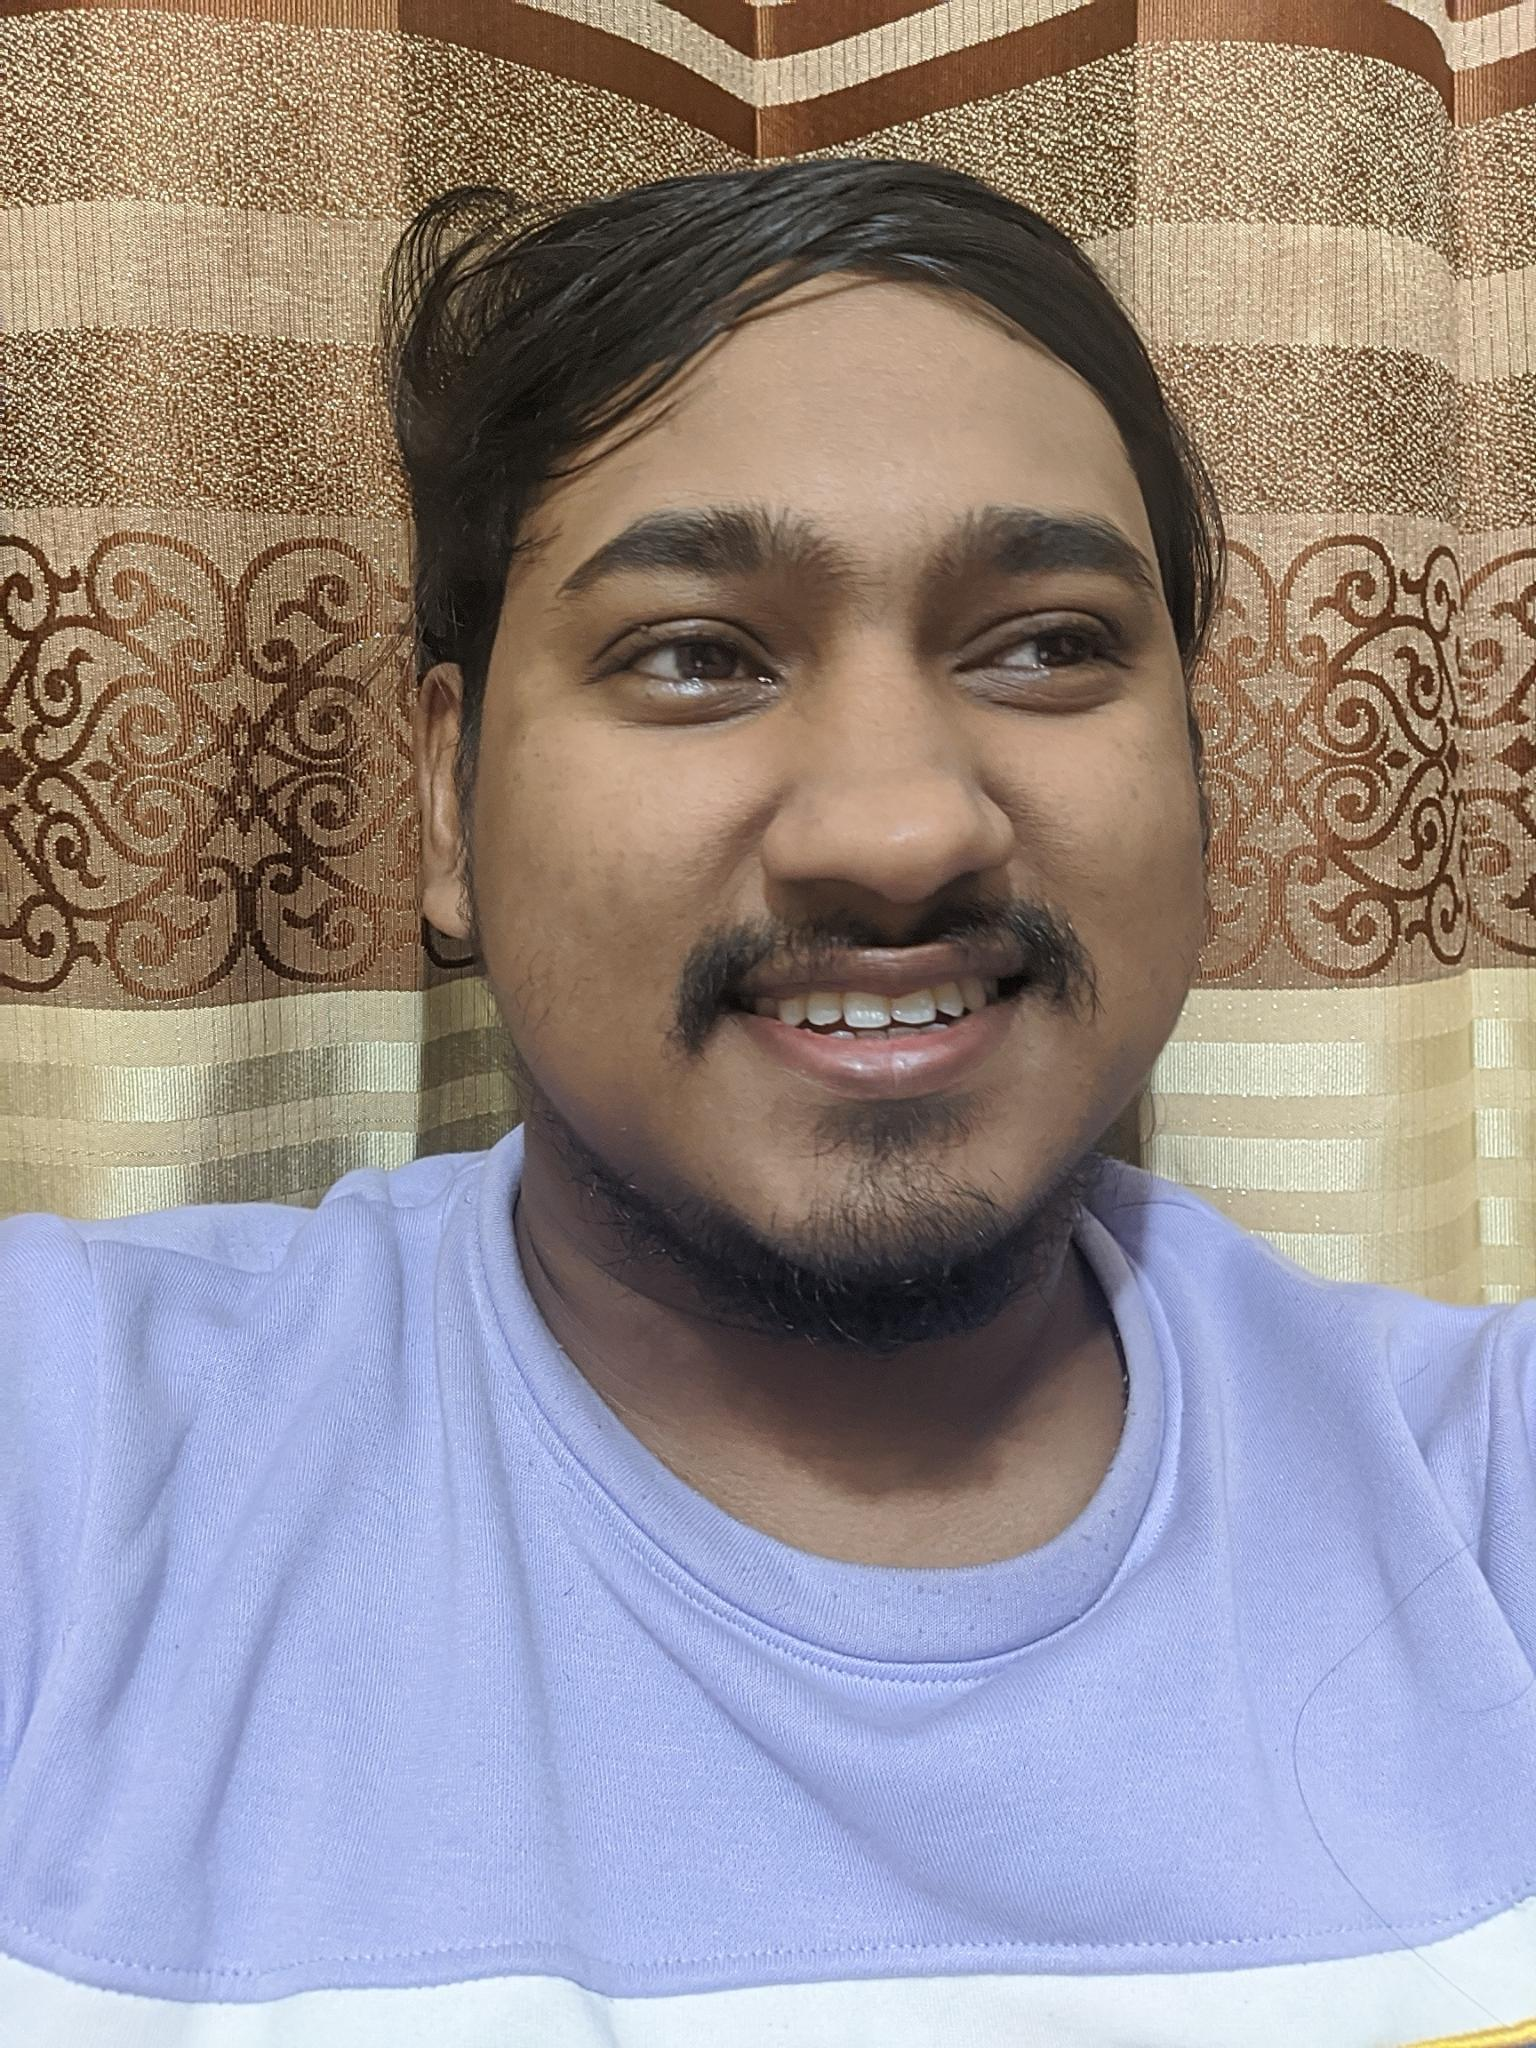Happy: (494, 445, 1202, 1255)
